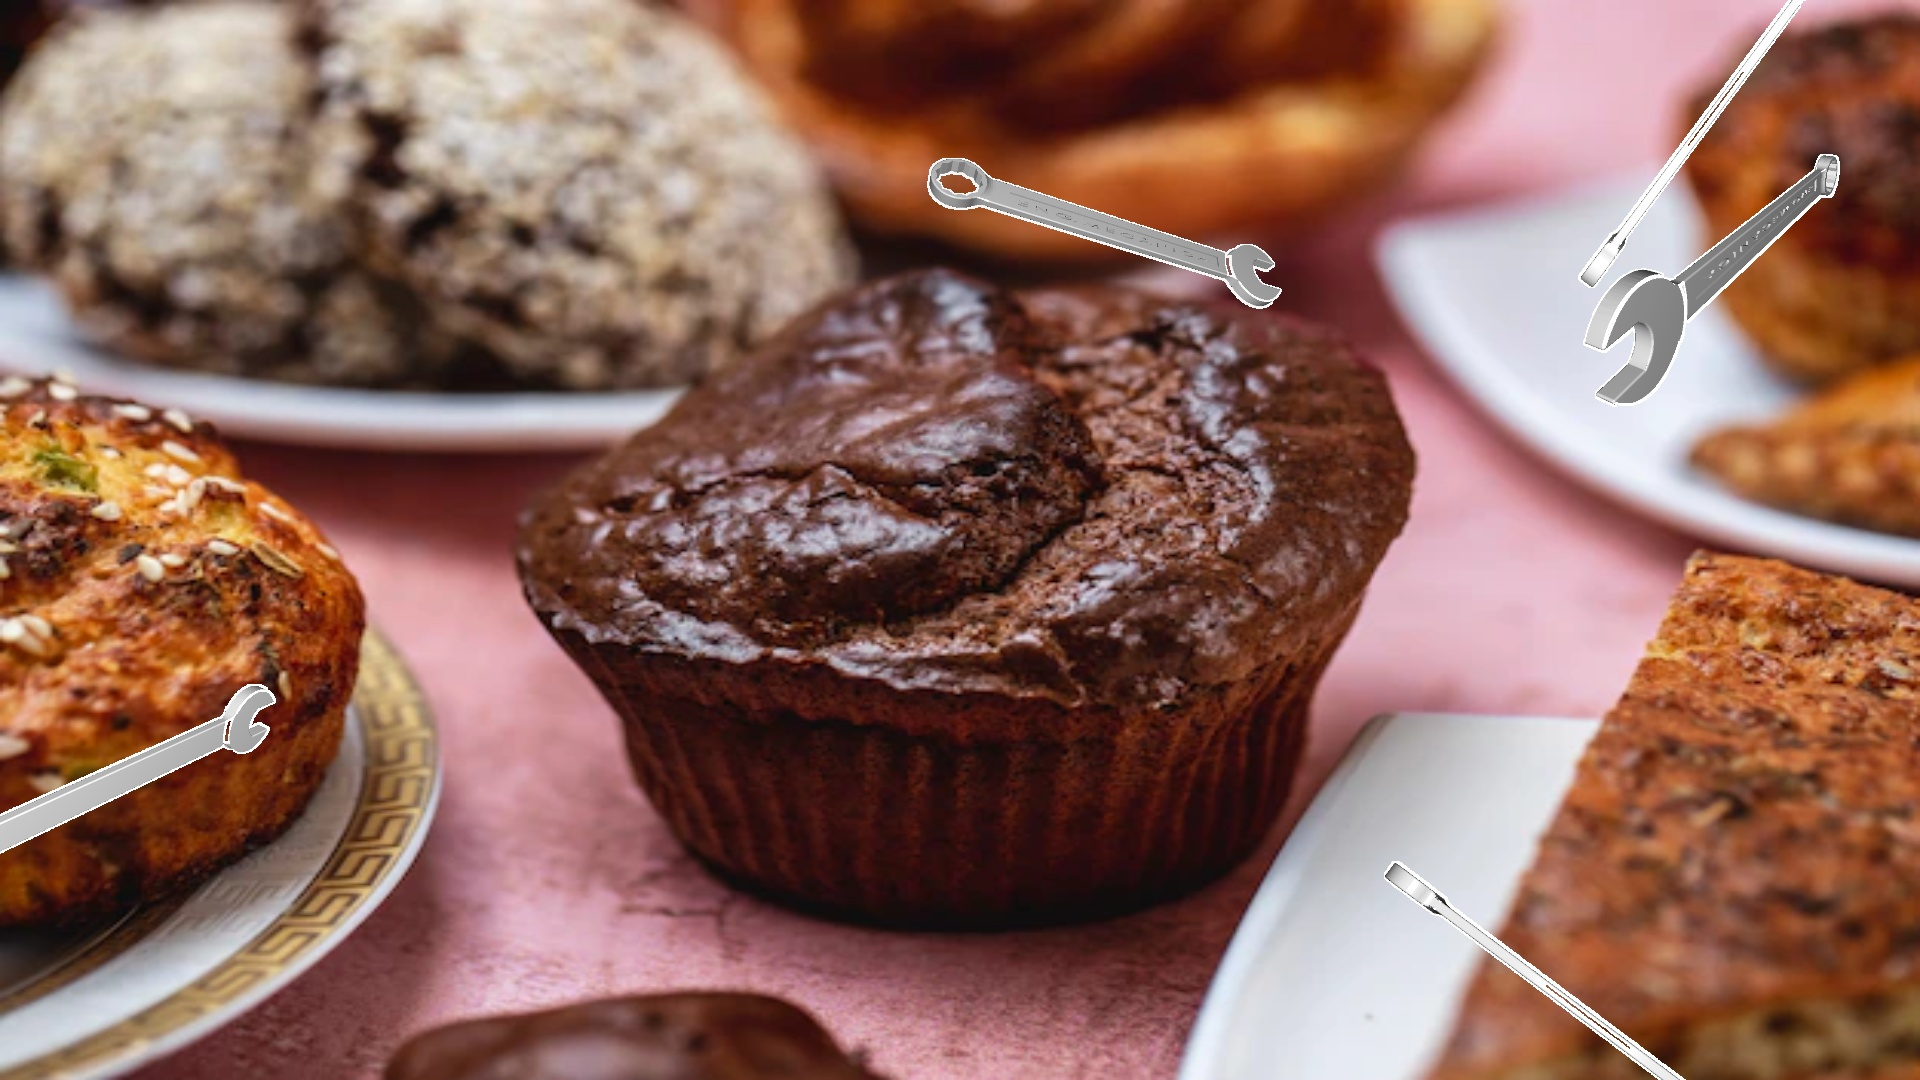Mixed Key: (1385, 861, 1685, 1079), (1578, 0, 1805, 287), (1582, 154, 1840, 406), (927, 158, 1280, 309), (0, 684, 276, 853)
